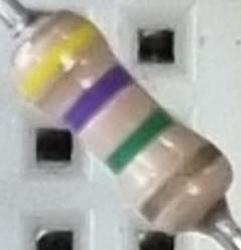Blue: (56, 63, 136, 135)
Green: (102, 107, 179, 178)
Side-Silver: (138, 140, 223, 224)
Yellow: (13, 16, 105, 105)
